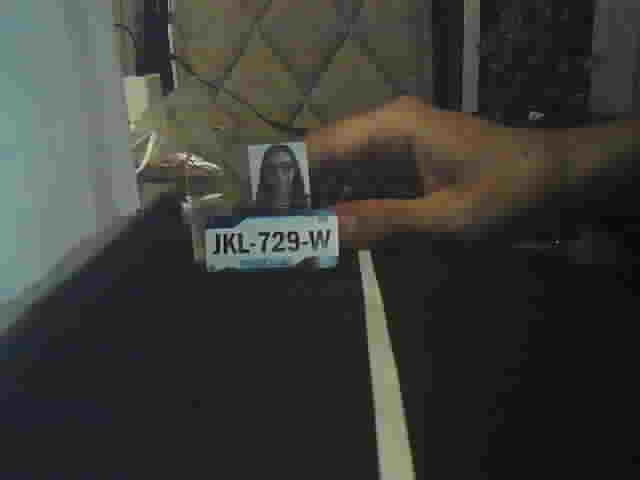PLACA: (202, 208, 341, 276)
ROSTRO: (255, 145, 307, 204)
